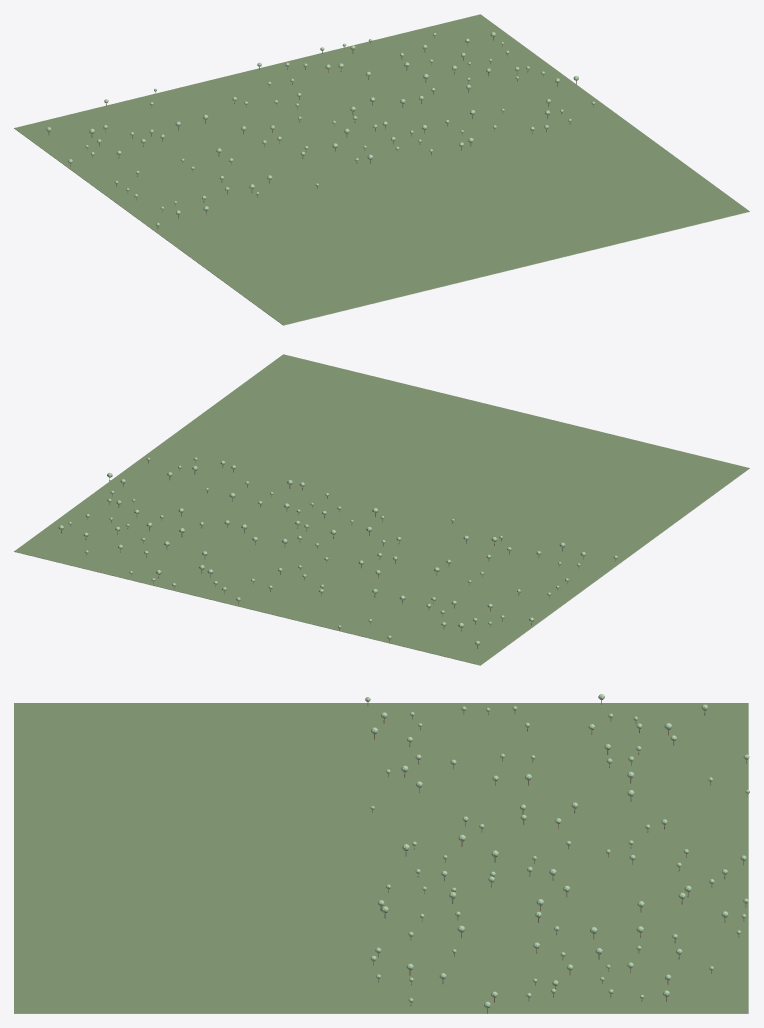
The model's file is chunk_1_7_high.glb.
The picture shows the model from 3 angles, top to bottom: view 1: azimuth 30°, elevation 25°; view 2: azimuth 150°, elevation 25°; view 3: azimuth 270°, elevation 25°; orthographic projection. The views are drawn at different scales.
Visible parts, largest first — view 1: city_forest_floor, city_foliage, city_grass, city_foliage_dark; view 2: city_forest_floor, city_foliage, city_grass, city_foliage_dark; view 3: city_forest_floor, city_foliage, city_foliage_dark, city_bark, city_grass.
Boxes of the visible parts, bbox=[...] form: city_forest_floor: bbox=[14, 14, 749, 325]; city_foliage: bbox=[47, 32, 595, 226]; city_grass: bbox=[14, 128, 749, 325]; city_foliage_dark: bbox=[46, 33, 592, 225]; city_forest_floor: bbox=[14, 354, 749, 665]; city_foliage: bbox=[59, 457, 617, 645]; city_grass: bbox=[14, 468, 749, 665]; city_foliage_dark: bbox=[58, 458, 617, 644]; city_forest_floor: bbox=[14, 703, 748, 1013]; city_foliage: bbox=[365, 694, 749, 1008]; city_foliage_dark: bbox=[366, 696, 749, 1007]; city_bark: bbox=[367, 700, 747, 1013]; city_grass: bbox=[14, 1013, 748, 1013].
Bounding box in the file's own units: 515 × 9.76 × 513.
